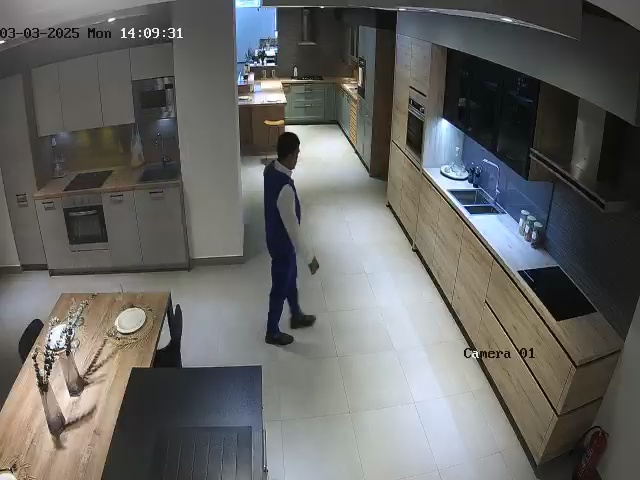employee: (262, 132, 317, 347)
